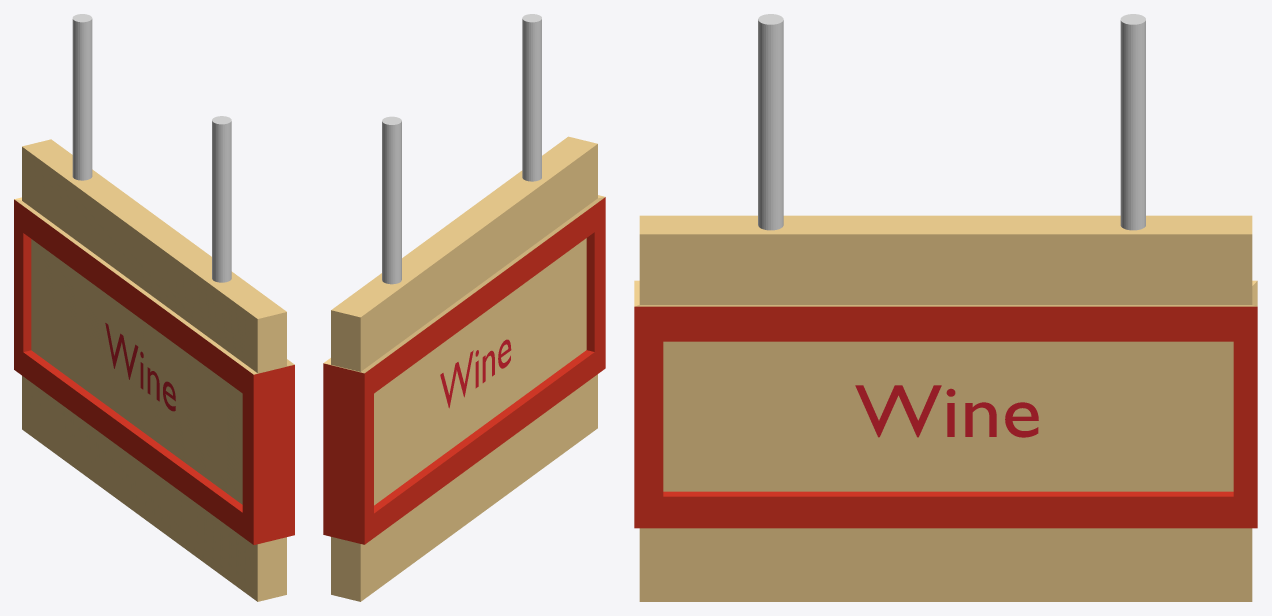
Rendered from wineSign.fbx.
3 views of the same model, side by side, from view 1: azimuth 30°, elevation 25°; view 2: azimuth 150°, elevation 25°; view 3: azimuth 270°, elevation 25° (orthographic). The views are drawn at different scales.
Parts seen in each view (by area): view 1: baseSign, Cylinder.001, Cylinder.000, BaseText.001; view 2: baseSign, Cylinder.001, Cylinder.000, BaseText.001; view 3: baseSign, Cylinder.001, Cylinder.000, BaseText.000.
Boxes of the visible parts, x1=… form: baseSign: x1=14, y1=139, x2=294, y2=601; Cylinder.001: x1=72, y1=14, x2=92, y2=180; Cylinder.000: x1=212, y1=116, x2=231, y2=282; BaseText.001: x1=105, y1=323, x2=175, y2=411; baseSign: x1=323, y1=136, x2=605, y2=601; Cylinder.001: x1=382, y1=116, x2=401, y2=284; Cylinder.000: x1=522, y1=14, x2=541, y2=181; BaseText.001: x1=440, y1=339, x2=511, y2=408; baseSign: x1=634, y1=215, x2=1257, y2=601; Cylinder.001: x1=1120, y1=14, x2=1145, y2=230; Cylinder.000: x1=758, y1=14, x2=783, y2=230; BaseText.000: x1=855, y1=385, x2=1038, y2=437.
Bounding box in the file's own units: 42.35 × 434 × 427.
